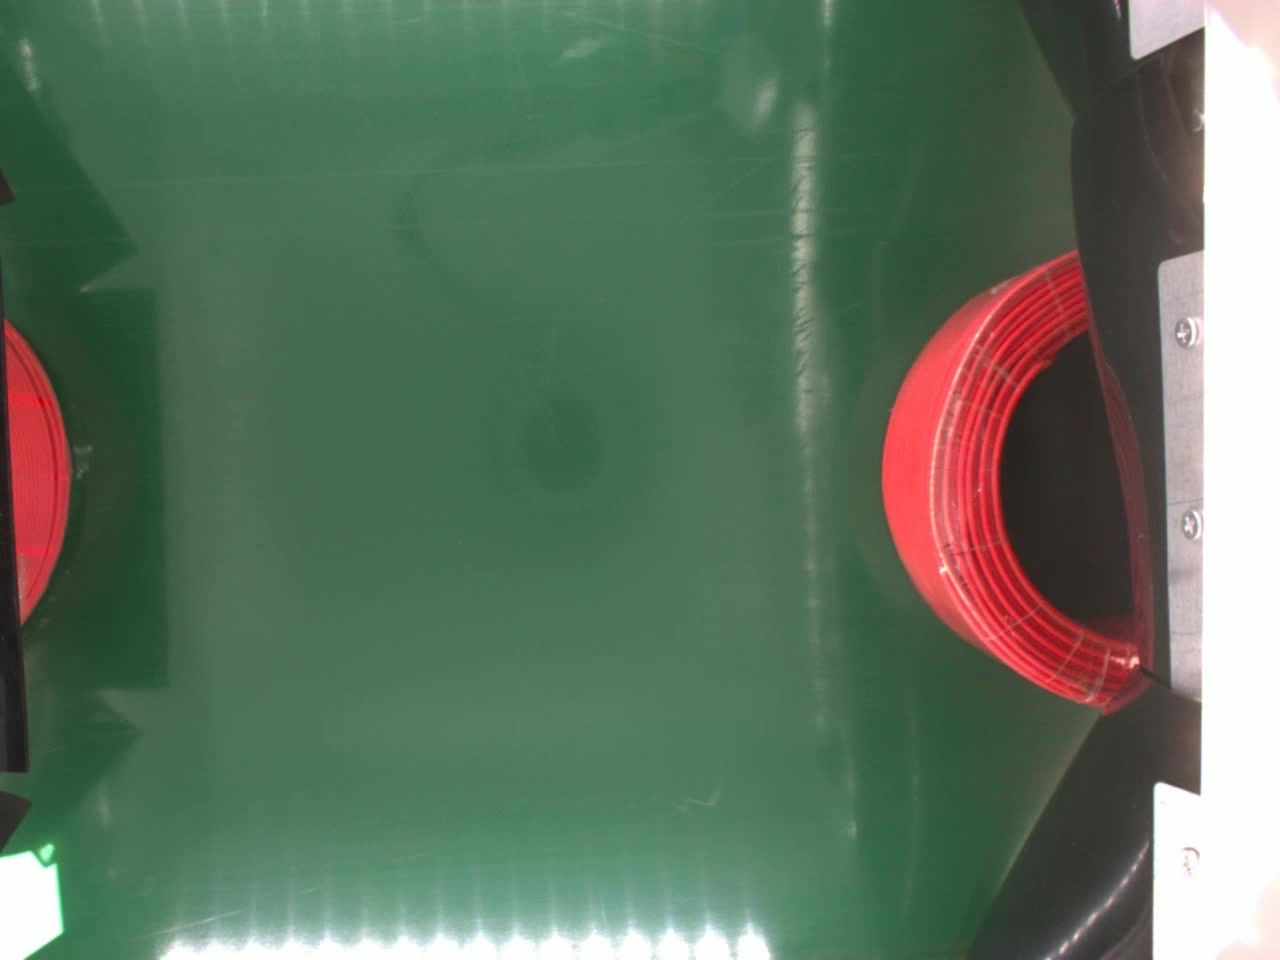red: (879, 247, 1147, 708)
